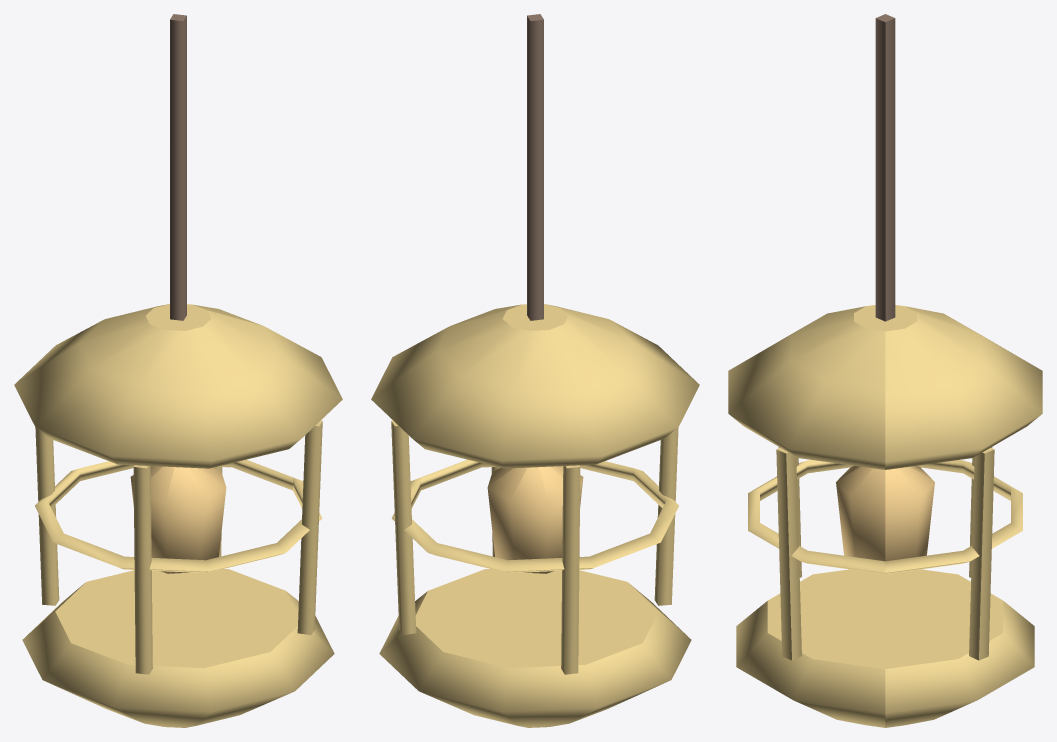
The model's file is kajuete_lampe.glb.
3 renders of one model, left to right at view 1: azimuth 30°, elevation 25°; view 2: azimuth 150°, elevation 25°; view 3: azimuth 270°, elevation 25°, orthographic.
Parts seen in each view (by area): view 1: G_kajuete_lampe; view 2: G_kajuete_lampe; view 3: G_kajuete_lampe.
Boxes of the visible parts, left/top/right/bottom form: G_kajuete_lampe: left=14, top=14, right=342, bottom=727; G_kajuete_lampe: left=371, top=14, right=699, bottom=727; G_kajuete_lampe: left=728, top=14, right=1042, bottom=727.
Size of the model in its own units: 0.4 by 0.93 by 0.3804.
